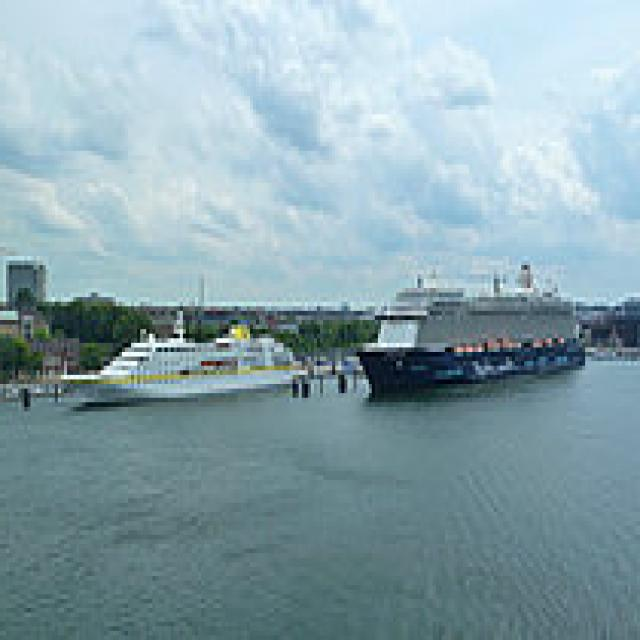Cruise: (357, 251, 594, 398), (64, 302, 317, 402)
